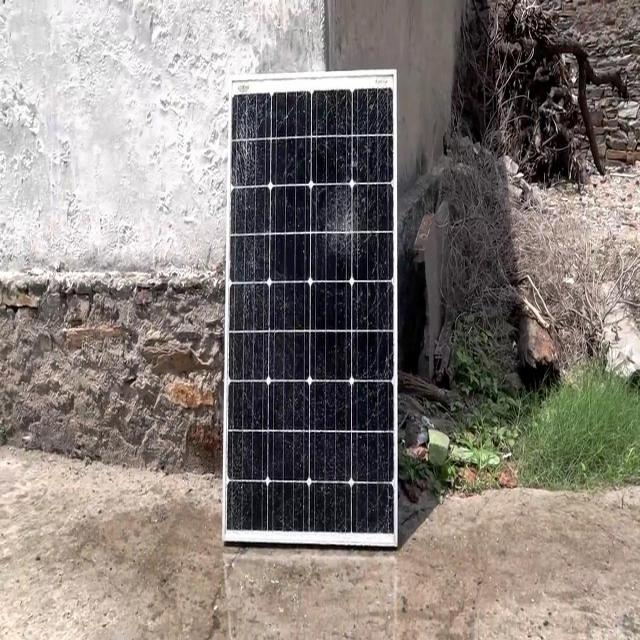faulty: (222, 73, 402, 550)
